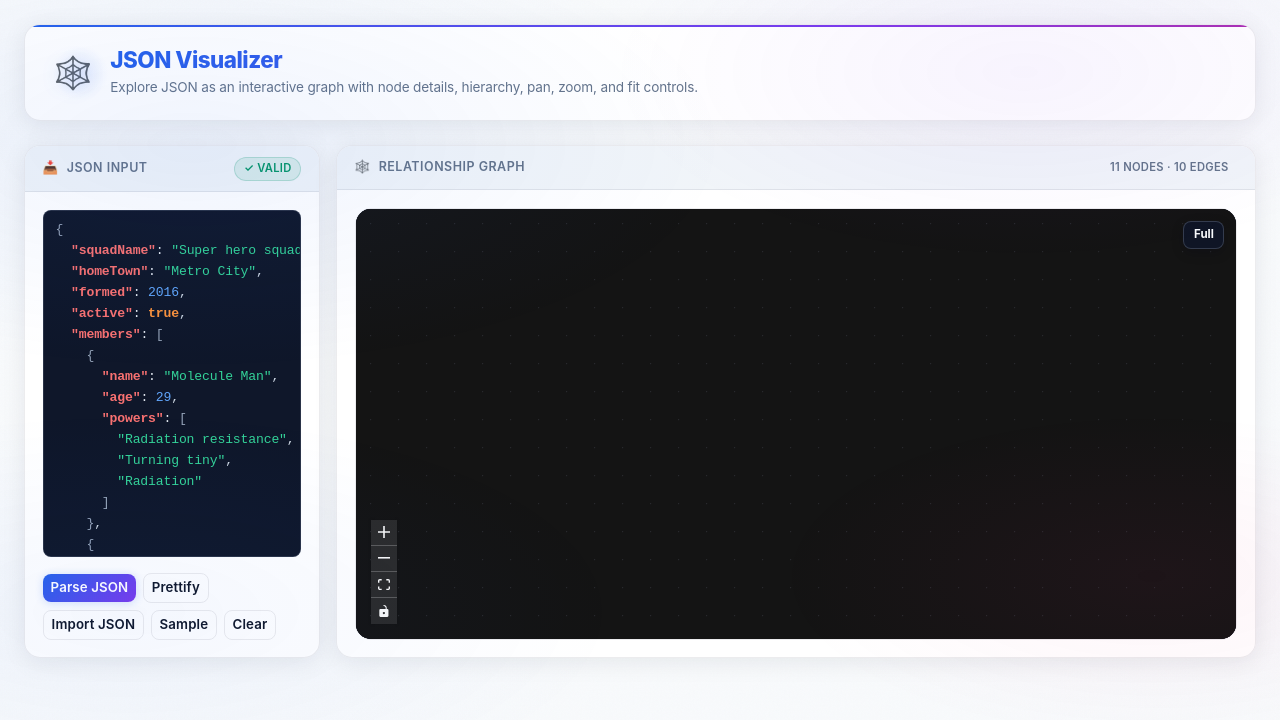
Scenario: JsonVisualizer component › Prettify functionality › shows error when trying to prettify invalid JSON
Replace the text in the text box with placeholder "Paste JSON to visualize..." with "not-json" at (172, 384), box 43,210 -> 301,558
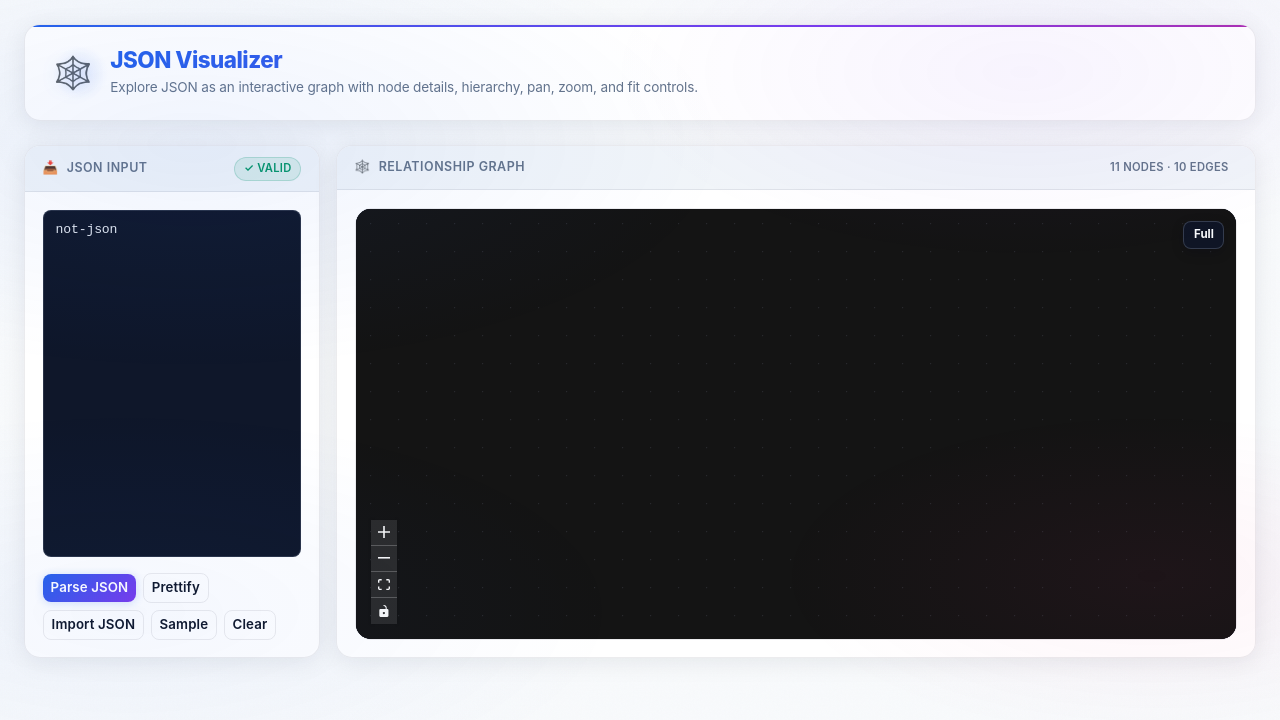
Click the button "Prettify" at (176, 588), box 143,573 -> 209,603
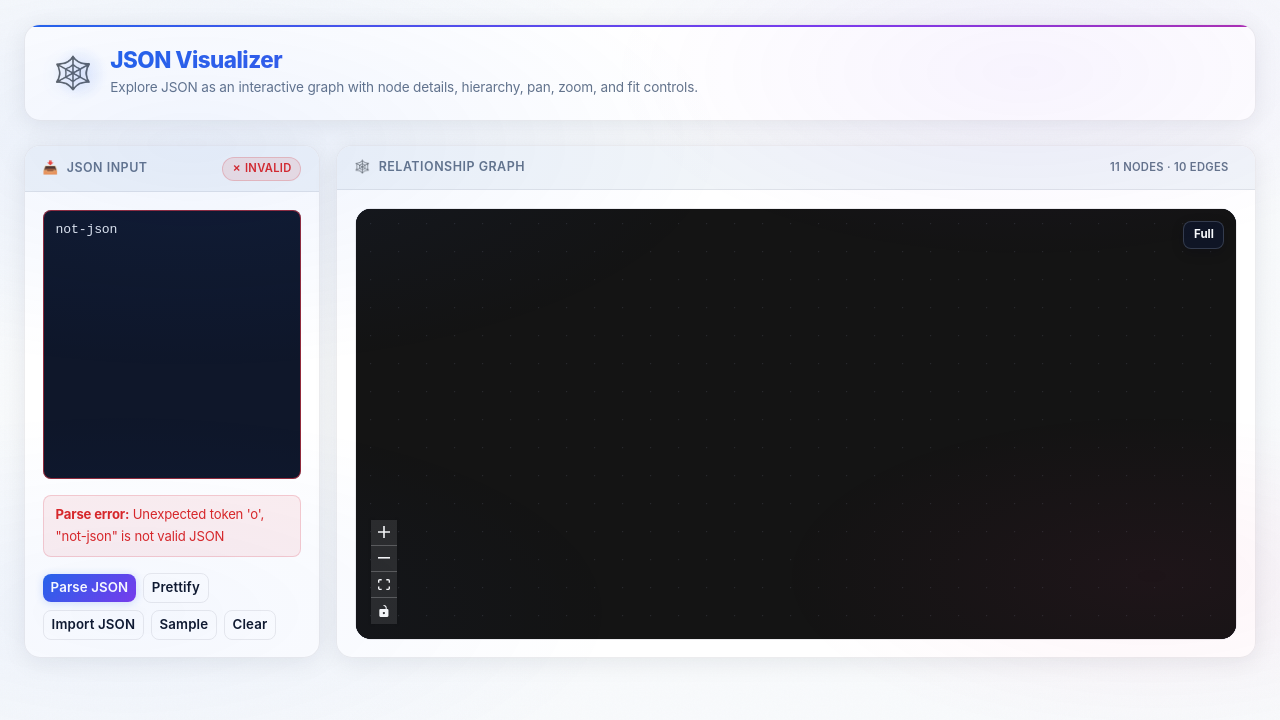
Expected: the text "Parse error:" is shown, 56,506 -> 129,522
